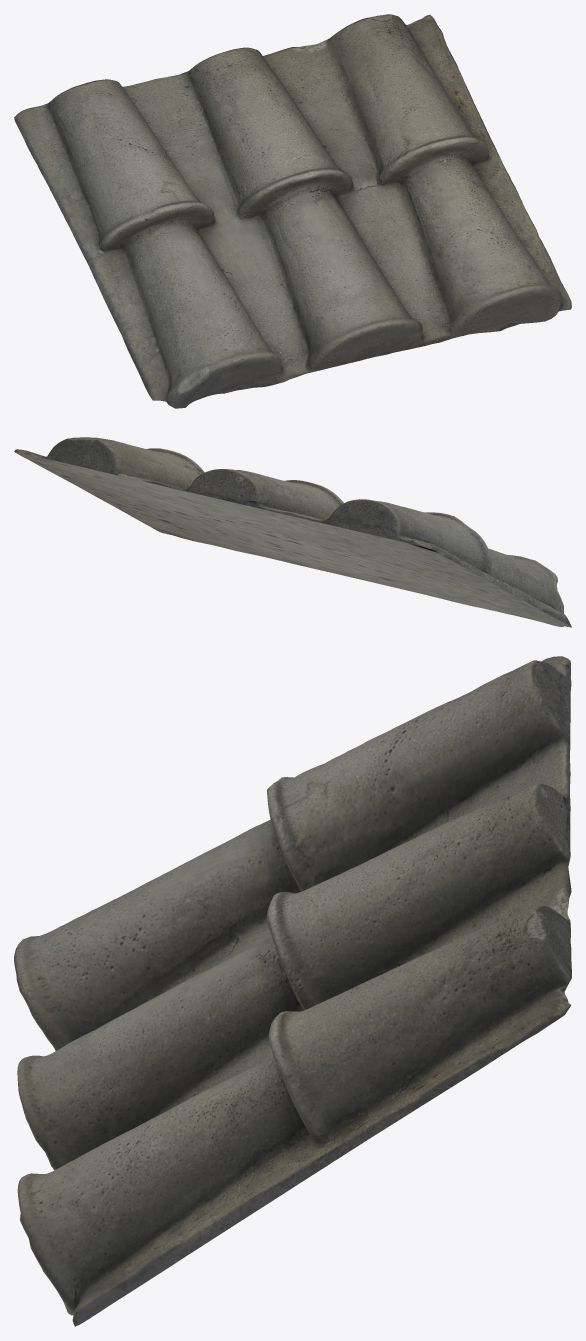
Rendered from Retopo_3DModel_mesh.109.glb.
3 renders of one model, top to bottom at view 1: azimuth 30°, elevation 25°; view 2: azimuth 150°, elevation 25°; view 3: azimuth 270°, elevation 25°, orthographic. The views are drawn at different scales.
Visible parts, largest first — view 1: Retopo_3DModel_mesh.109; view 2: Retopo_3DModel_mesh.109; view 3: Retopo_3DModel_mesh.109.
Part boxes in pixels (left/top/right/bottom): Retopo_3DModel_mesh.109: left=14, top=14, right=571, bottom=408; Retopo_3DModel_mesh.109: left=14, top=437, right=571, bottom=627; Retopo_3DModel_mesh.109: left=14, top=656, right=571, bottom=1326.
Size of the model in its own units: 4.88 by 2.39 by 3.26.
Materials: 1 (1 with a texture image).
